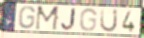4: (121, 10, 137, 34)
G: (79, 7, 98, 32), (18, 5, 37, 30)
J: (60, 7, 77, 31)
M: (34, 5, 61, 32)
U: (99, 8, 119, 34)
